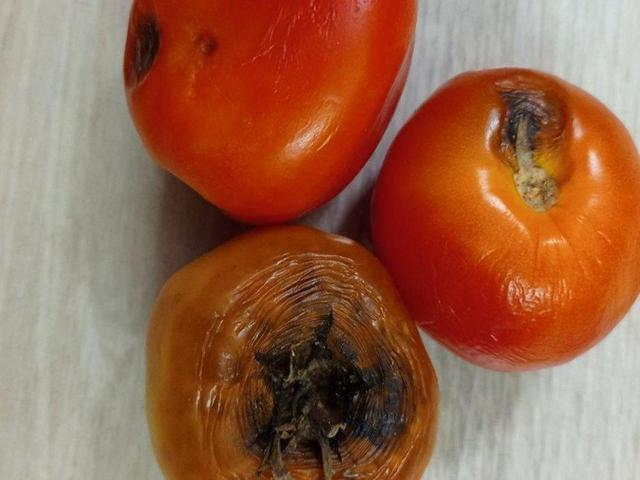defect: (369, 66, 640, 373), (142, 226, 442, 480), (116, 4, 432, 225)
